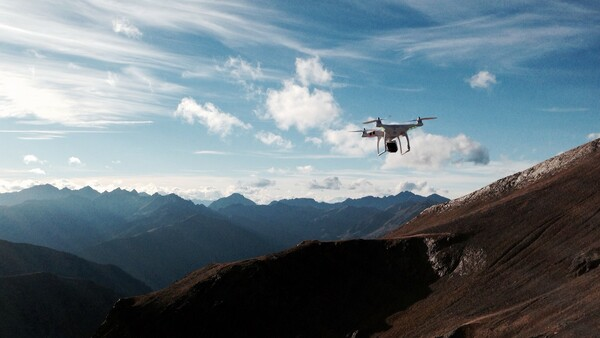drone: (350, 115, 438, 157)
